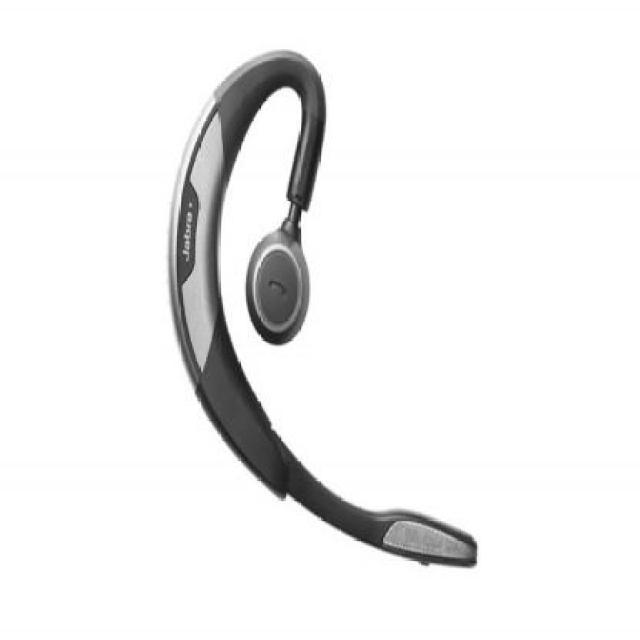earphone: (168, 35, 520, 577)
